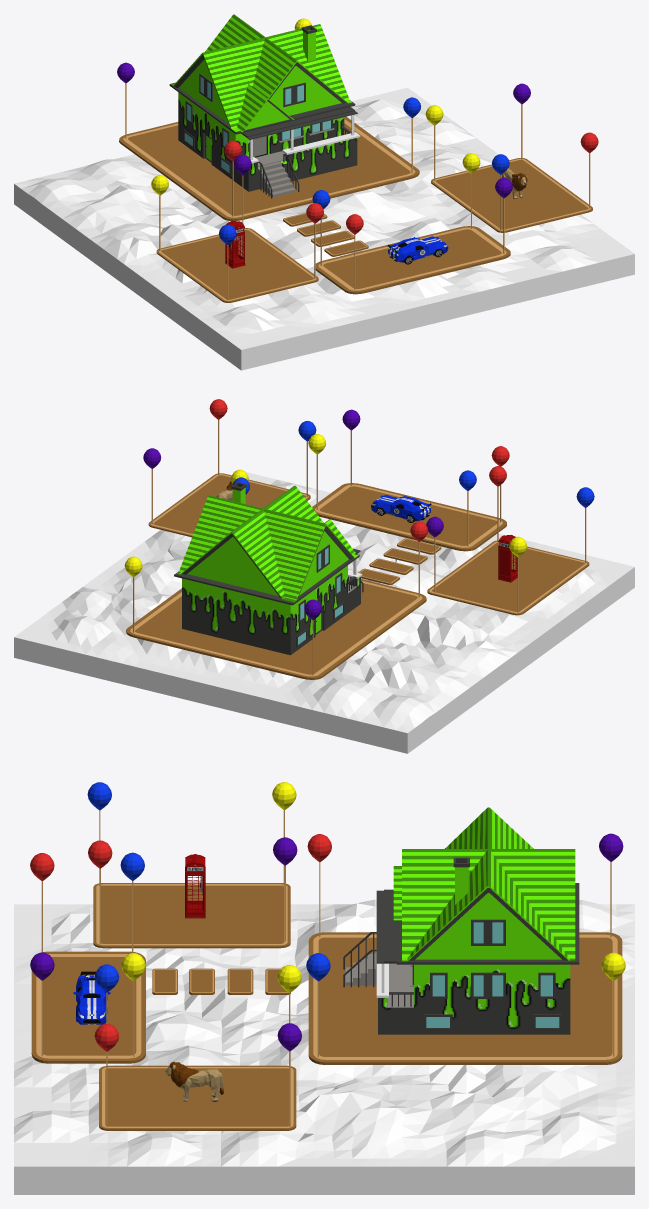
3 renders of one model, top to bottom at view 1: azimuth 30°, elevation 25°; view 2: azimuth 150°, elevation 25°; view 3: azimuth 270°, elevation 25°, orthographic. The views are drawn at different scales.
Visible parts, largest first — view 1: Cube.013, Cube.754, VEHICLES_RACING_CAR, OBJRANDOM_PHONEBOOTH; view 2: Cube.013, Cube.754, VEHICLES_RACING_CAR, OBJRANDOM_PHONEBOOTH; view 3: Cube.013, Cube.754, VEHICLES_RACING_CAR, ANIMAL_LEON, OBJRANDOM_PHONEBOOTH.
Boxes of the visible parts, x1,y1,x2,y2 form: Cube.013: [14, 18, 634, 370]; Cube.754: [169, 14, 360, 198]; VEHICLES_RACING_CAR: [387, 236, 448, 264]; OBJRANDOM_PHONEBOOTH: [225, 221, 245, 268]; Cube.013: [14, 399, 634, 753]; Cube.754: [174, 482, 363, 655]; VEHICLES_RACING_CAR: [371, 495, 431, 522]; OBJRANDOM_PHONEBOOTH: [498, 535, 517, 582]; Cube.013: [14, 782, 634, 1194]; Cube.754: [343, 807, 579, 1034]; VEHICLES_RACING_CAR: [73, 971, 110, 1024]; ANIMAL_LEON: [165, 1061, 223, 1101]; OBJRANDOM_PHONEBOOTH: [185, 854, 205, 918].
Bounding box in the file's own units: 4000 × 1788 × 4000.
40 materials, 2 textured.
